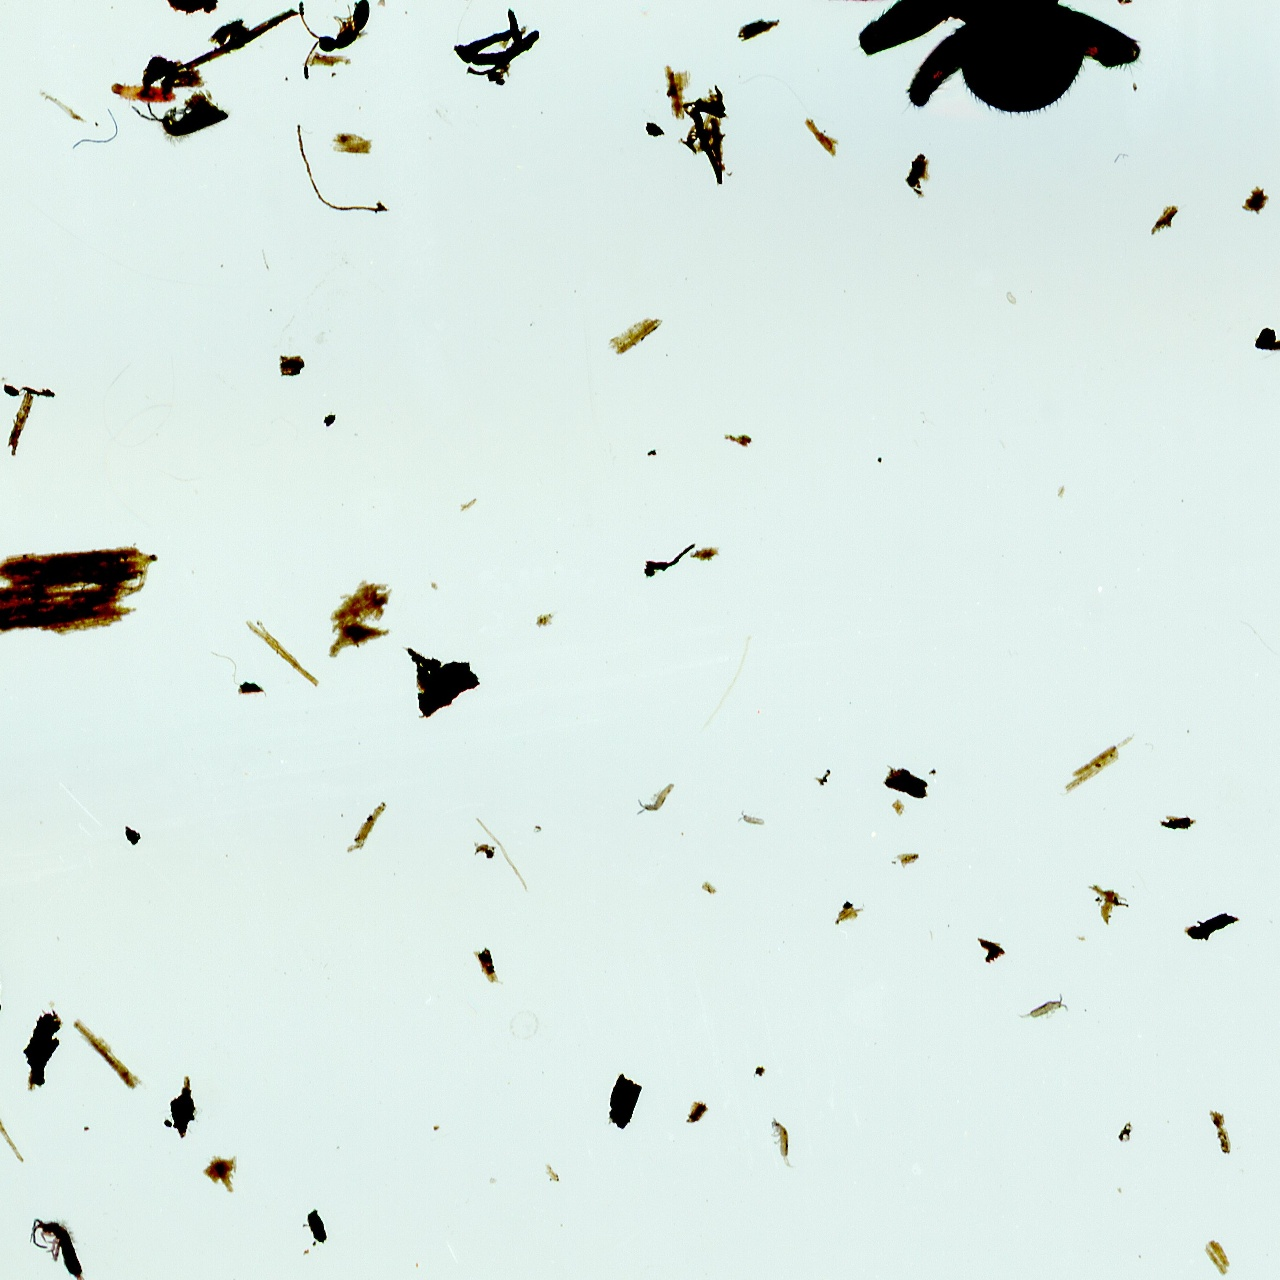arthropod: (753, 0, 1247, 172), (12, 1198, 120, 1280), (297, 0, 373, 81), (1009, 983, 1073, 1030), (108, 79, 178, 108), (633, 778, 680, 818), (770, 1114, 799, 1172), (730, 802, 772, 838)
